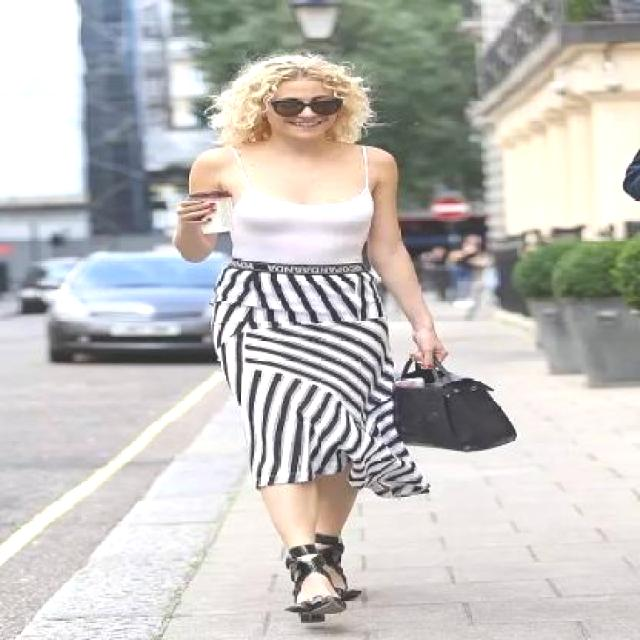face_nomask: (260, 94, 342, 141)
glasses: (267, 90, 345, 122)
hand_noglove: (408, 332, 449, 371), (172, 199, 217, 223)
head_nohelmet: (246, 45, 345, 89)
person: (136, 40, 530, 640)
